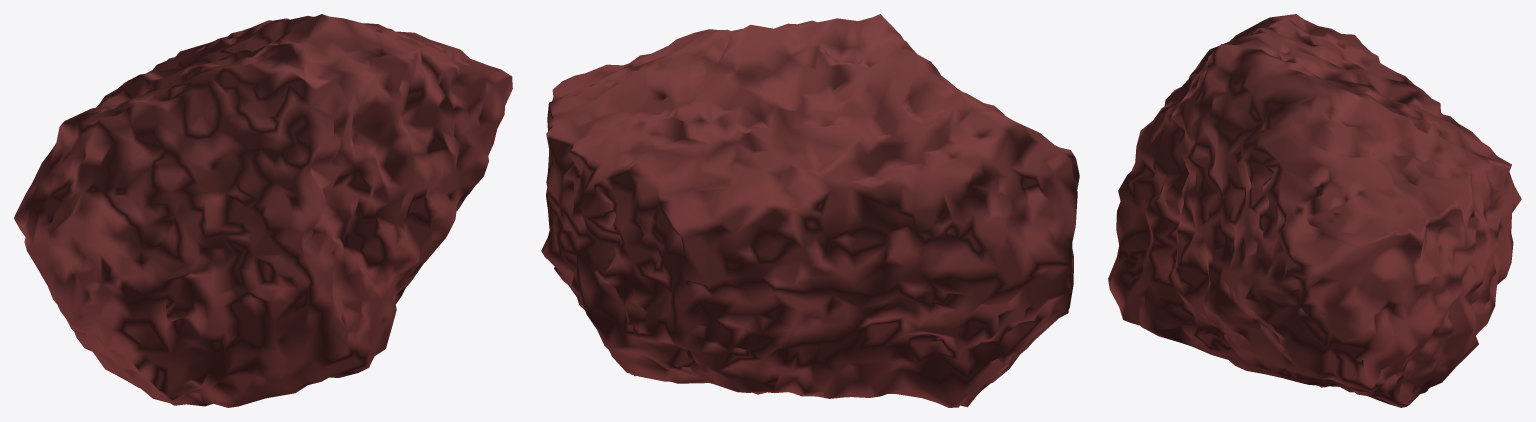
Rendered from OBJ_VolcanicRock.fbx.
3 views of the same model, side by side, from view 1: azimuth 30°, elevation 25°; view 2: azimuth 150°, elevation 25°; view 3: azimuth 270°, elevation 25° (orthographic). The views are drawn at different scales.
Visible parts, largest first — view 1: OBJ_VolcanicRock; view 2: OBJ_VolcanicRock; view 3: OBJ_VolcanicRock.
Boxes of the visible parts, x1=… form: OBJ_VolcanicRock: x1=14, y1=14, x2=512, y2=407; OBJ_VolcanicRock: x1=541, y1=14, x2=1079, y2=407; OBJ_VolcanicRock: x1=1108, y1=14, x2=1521, y2=407.
Bounding box in the file's own units: 61.64 × 38.3 × 47.
